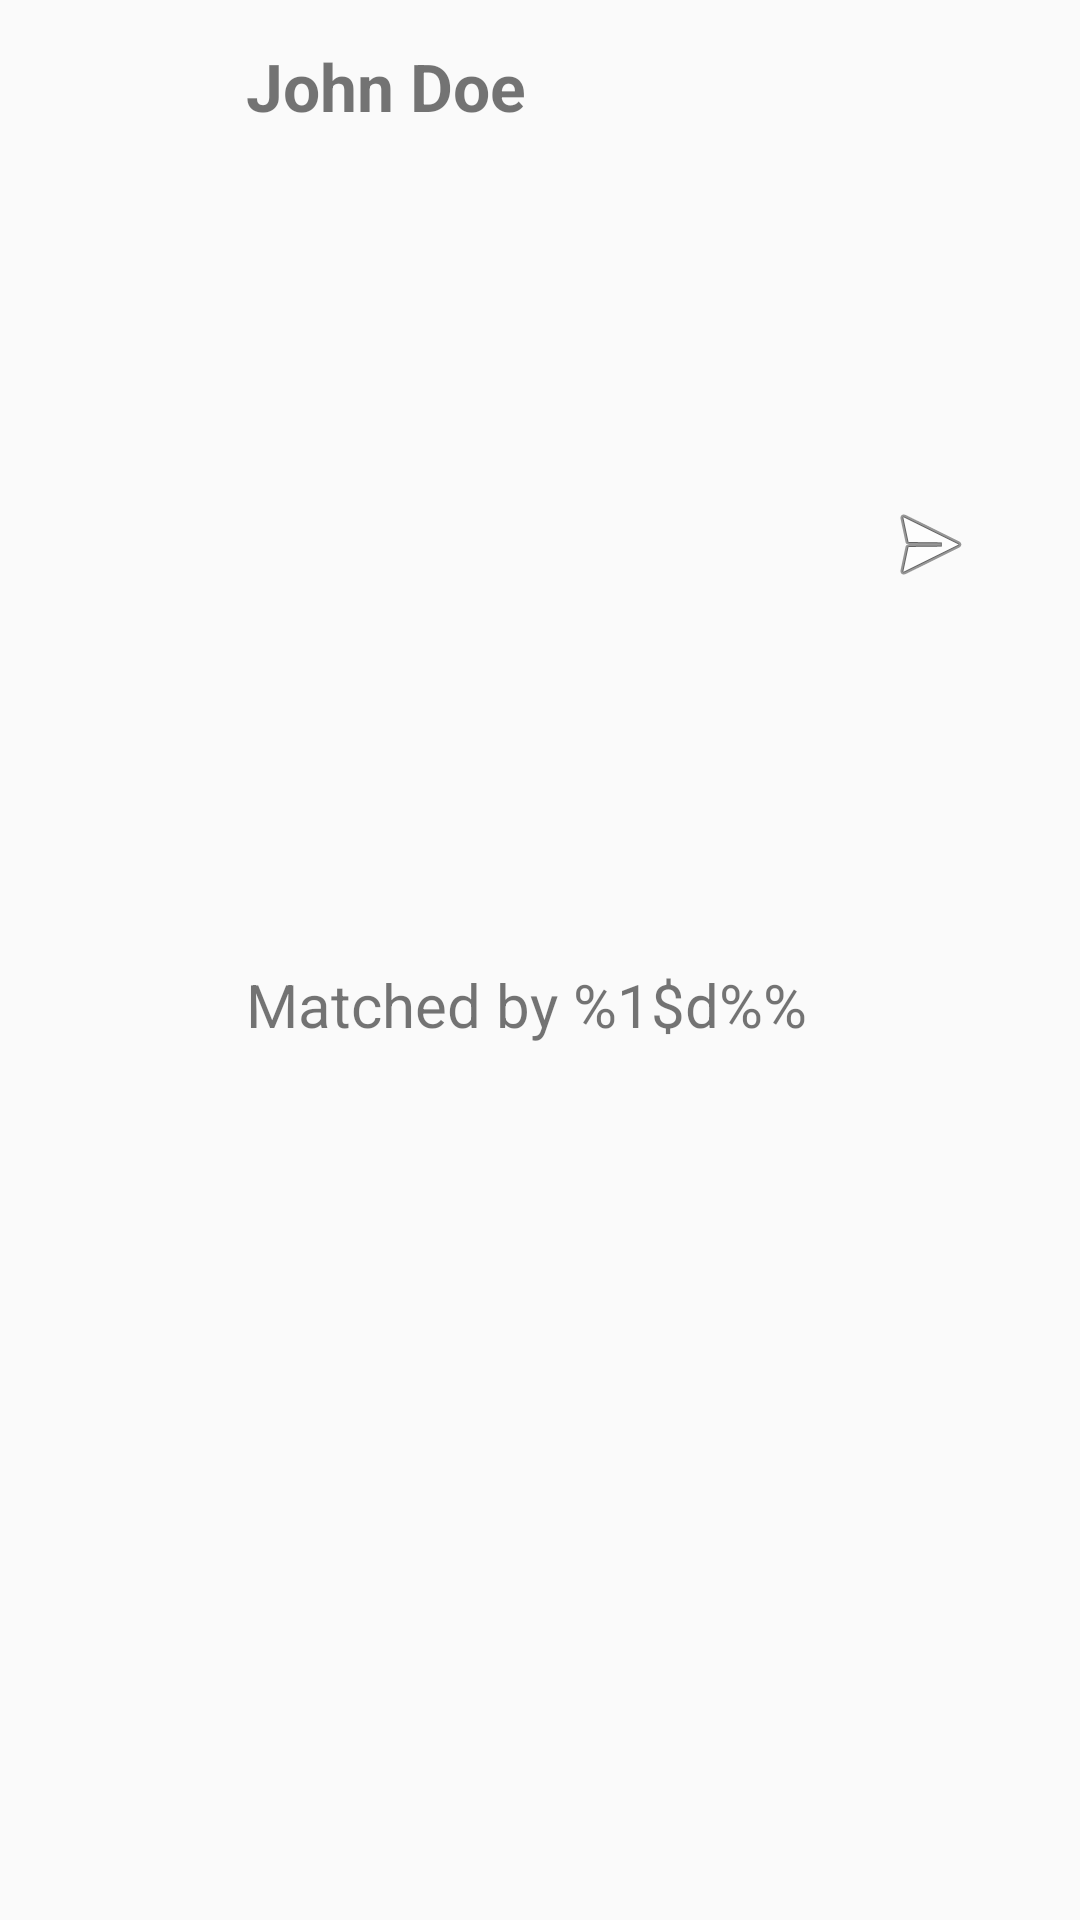

Point at icon controls on the screen. Image size 1080×1920, points as (x=x, y=y).
send: (x=931, y=544)
